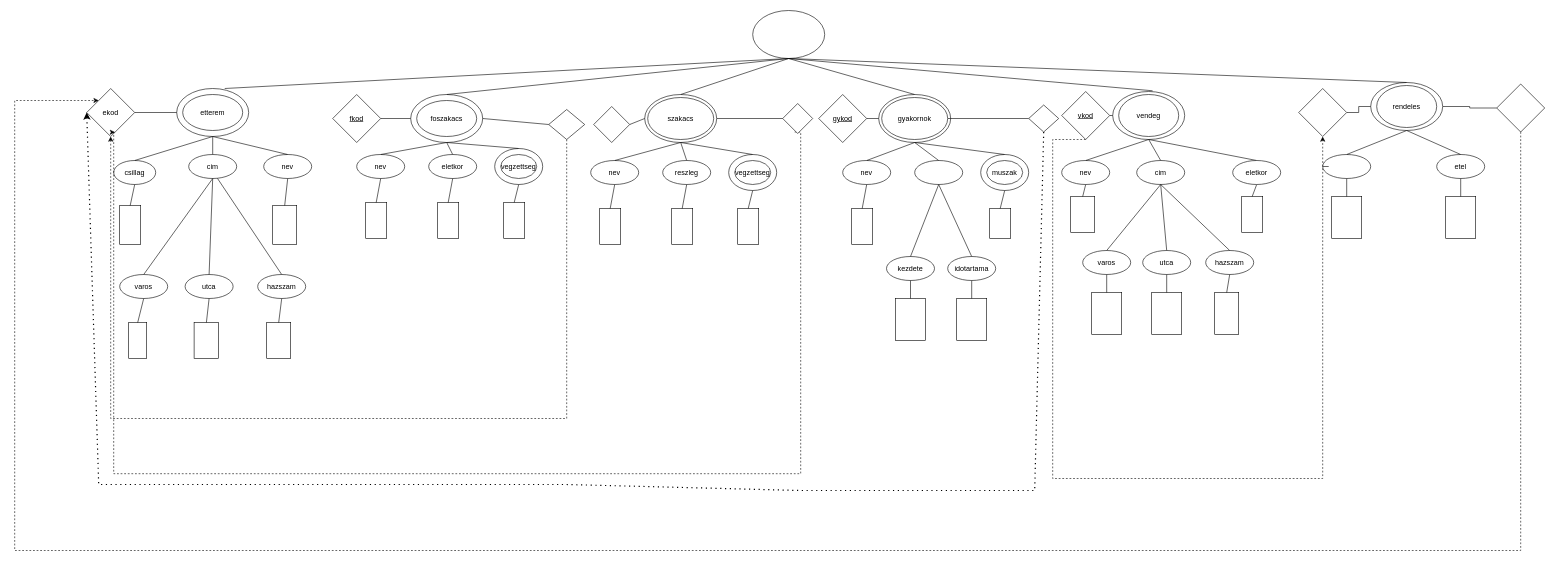
This 1555x566 diagram has some shape labels left out. The shapes that lost their labels are listed below. From the top down, each one's centre as x and y in pixels, then its label:
At [788,34]: "GH5OGN_vendeglatas".
At [566,124]: "E_F".
At [611,124]: "szkod".
At [797,118]: "E_SZ".
At [1043,118]: "E_GY".
At [1322,112]: "E_V_V".
At [1520,107]: "E_V_E".
At [938,172]: "gyakorlat".
At [1346,166]: "osszeg".
